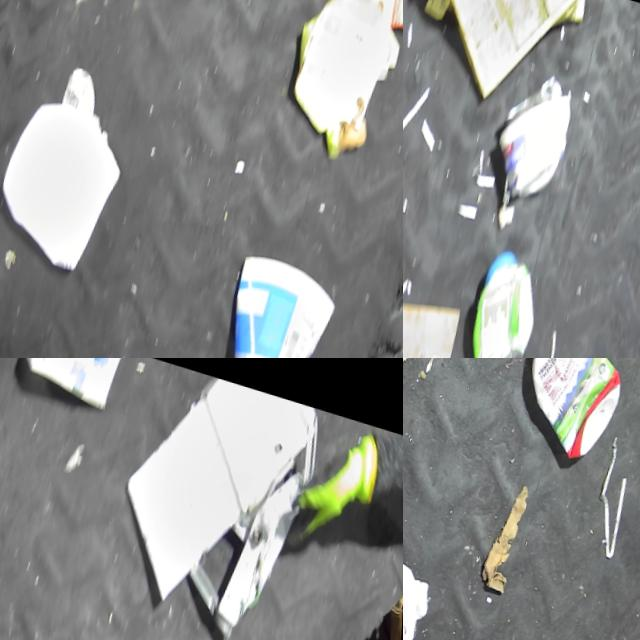can: (484, 57, 584, 205)
non_white_jug: (498, 358, 640, 460)
